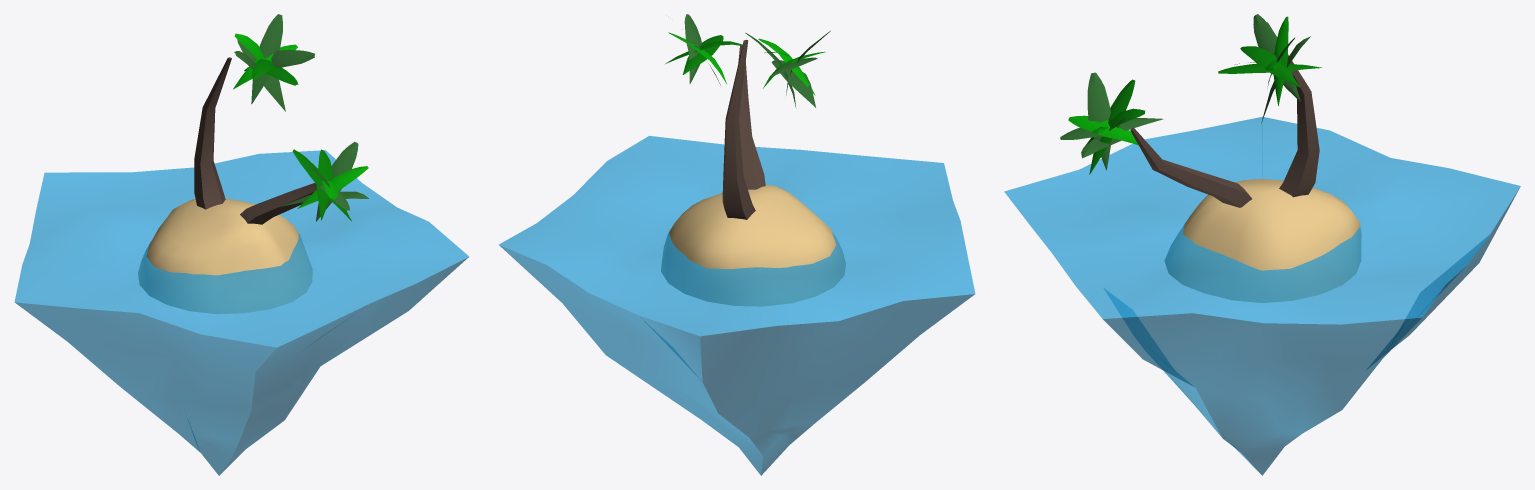
The model's file is RealIsland.glb.
3 views of the same model, side by side, from view 1: azimuth 30°, elevation 25°; view 2: azimuth 150°, elevation 25°; view 3: azimuth 270°, elevation 25° (orthographic). The views are drawn at different scales.
Visible parts, largest first — view 1: pPyramid1, pSphere1, pCylinder1, tree_2pCylinder1, pPlane2, tree_2pPlane1, pPlane3, tree_2pPlane5, tree_2pPlane8, pPlane6; view 2: pPyramid1, pSphere1, pCylinder1, tree_2pCylinder1, pPlane3, tree_2pPlane6; view 3: pPyramid1, pSphere1, pCylinder1, tree_2pCylinder1, tree_2pPlane3, pPlane1, tree_2pPlane7, pPlane5, tree_2pPlane4, pPlane8, tree_2pPlane2, pPlane4.
Part boxes in pixels (x1,y1,x2,y2): pPyramid1: [14, 150, 469, 475]; pSphere1: [138, 198, 312, 313]; pCylinder1: [194, 57, 231, 209]; tree_2pCylinder1: [240, 183, 316, 224]; pPlane2: [251, 14, 282, 104]; tree_2pPlane1: [316, 142, 358, 221]; pPlane3: [244, 49, 314, 71]; tree_2pPlane5: [316, 149, 332, 220]; tree_2pPlane8: [297, 166, 368, 208]; pPlane6: [237, 39, 285, 111]; pPyramid1: [499, 135, 975, 475]; pSphere1: [661, 185, 845, 306]; pCylinder1: [722, 39, 755, 219]; tree_2pCylinder1: [738, 45, 765, 189]; pPlane3: [684, 14, 702, 83]; tree_2pPlane6: [771, 60, 815, 107]; pPyramid1: [1004, 116, 1520, 475]; pSphere1: [1164, 179, 1361, 302]; pCylinder1: [1267, 22, 1319, 197]; tree_2pCylinder1: [1130, 128, 1252, 207]; tree_2pPlane3: [1087, 72, 1110, 170]; pPlane1: [1253, 14, 1300, 101]; tree_2pPlane7: [1068, 115, 1138, 145]; pPlane5: [1240, 46, 1299, 87]; tree_2pPlane4: [1089, 79, 1135, 174]; pPlane8: [1273, 16, 1288, 105]; tree_2pPlane2: [1060, 118, 1163, 139]; pPlane4: [1218, 63, 1321, 73].
Bounding box in the file's own units: 36.93 × 39.82 × 38.83.
